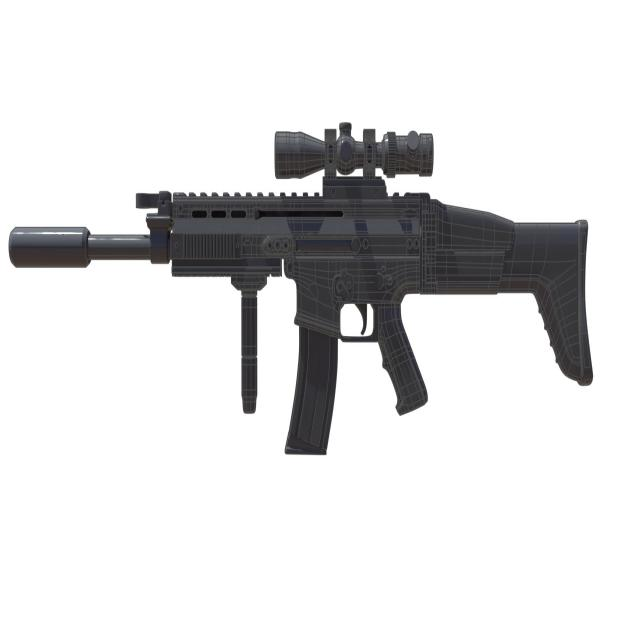Gun: (11, 113, 614, 471)
